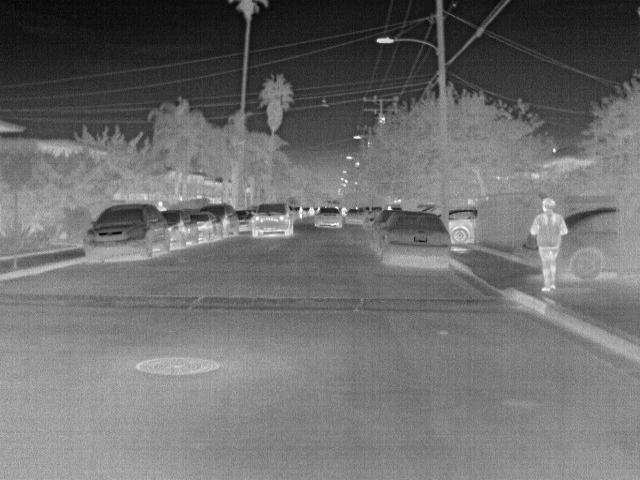car: (83, 200, 169, 262), (557, 206, 618, 282), (379, 209, 455, 270), (252, 204, 296, 238), (160, 208, 194, 251), (200, 202, 237, 240), (446, 206, 478, 248), (189, 210, 225, 243), (314, 205, 346, 231), (370, 209, 401, 231), (235, 208, 256, 234), (344, 207, 368, 226)
person: (529, 198, 569, 290), (297, 206, 304, 220)
